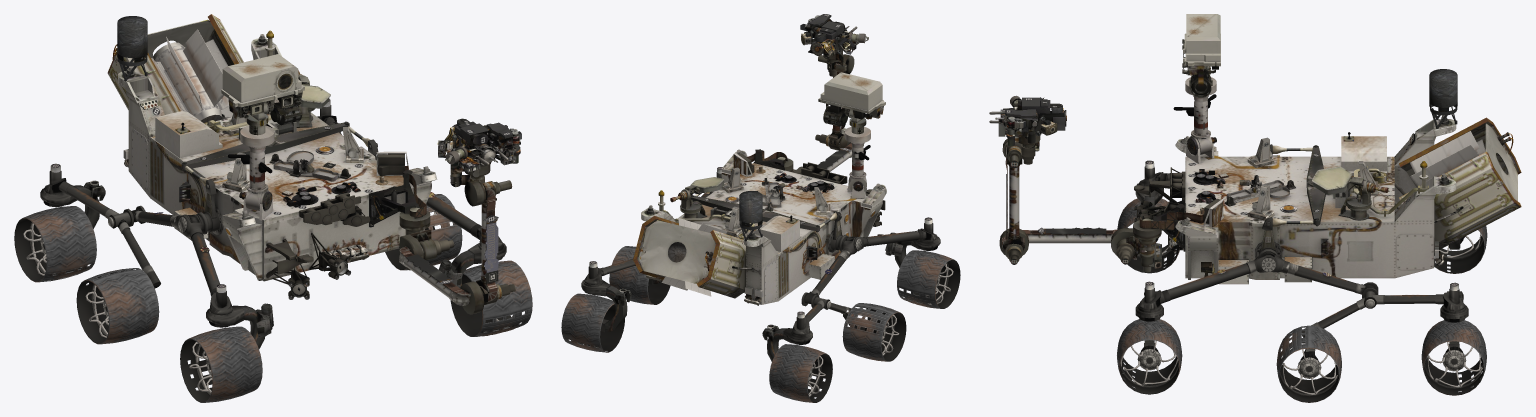
File: model_curiosity.glb
3 renders of one model, left to right at view 1: azimuth 30°, elevation 25°; view 2: azimuth 150°, elevation 25°; view 3: azimuth 270°, elevation 25°, orthographic. The views are drawn at different scales.
Visible parts, largest first — view 1: MSL; view 2: MSL; view 3: MSL.
Boxes of the visible parts, x1=… form: MSL: x1=14, y1=14, x2=532, y2=402; MSL: x1=561, y1=14, x2=960, y2=402; MSL: x1=989, y1=14, x2=1521, y2=402.
Size of the model in its own units: 2.78 by 2.22 by 3.94.
9 materials, 8 textured.
